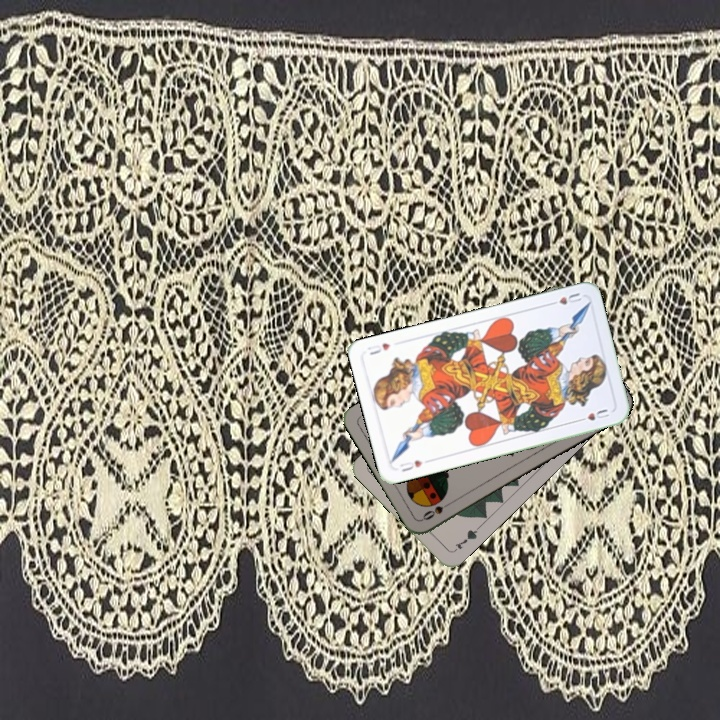G7: (449, 523, 482, 555)
HU: (545, 289, 584, 308), (396, 456, 425, 474)
SO: (418, 497, 455, 523)
